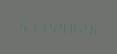eight: (67, 20, 76, 34)
five: (17, 18, 26, 32), (47, 19, 56, 33)
nine: (57, 19, 66, 34)
seven: (27, 18, 36, 33), (37, 19, 46, 33)
six: (87, 21, 96, 35)
two: (77, 20, 86, 34)
